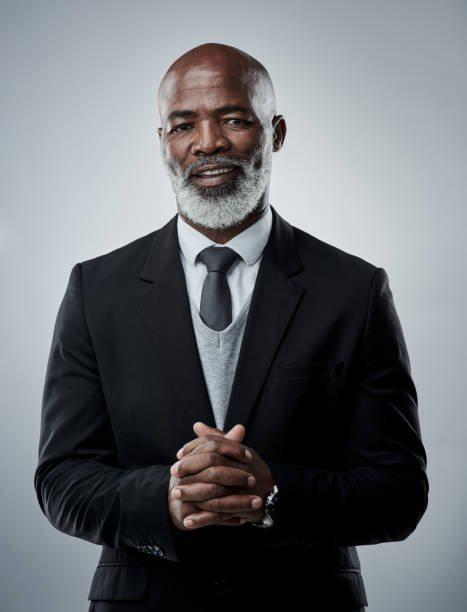Sober: (168, 65, 267, 220)
